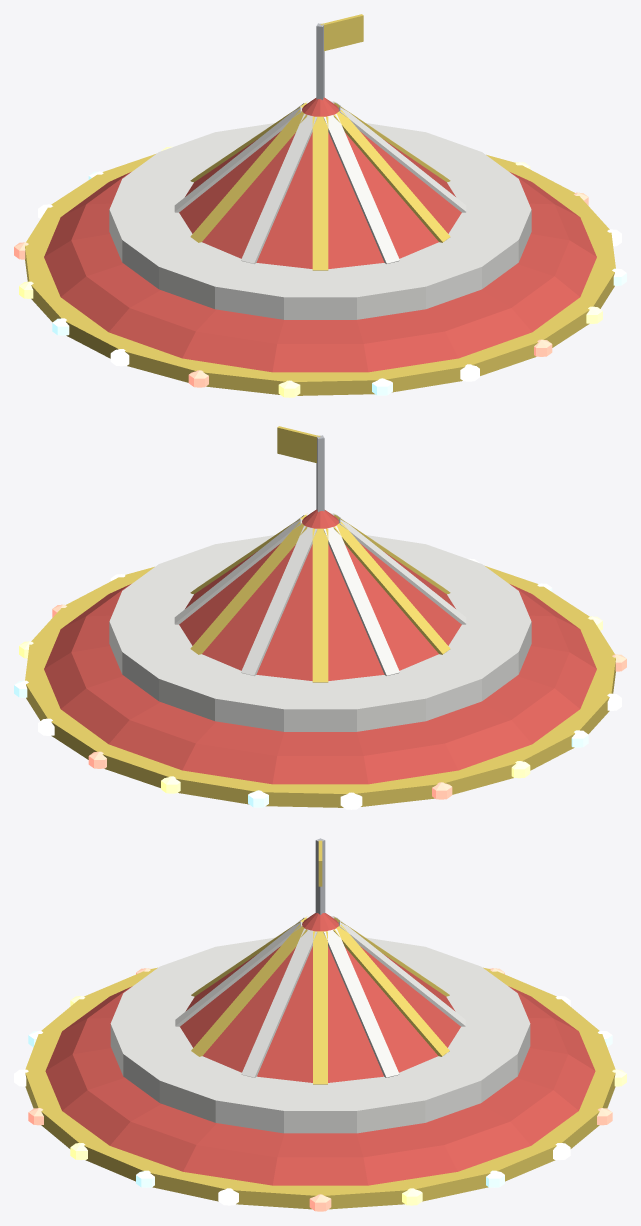
Rendered from market.glb.
3 renders of one model, top to bottom at view 1: azimuth 30°, elevation 25°; view 2: azimuth 150°, elevation 25°; view 3: azimuth 270°, elevation 25°, orthographic.
Parts seen in each view (by area): view 1: market; view 2: market; view 3: market.
Boxes of the visible parts, x1=… form: market: x1=14, y1=14, x2=626, y2=397; market: x1=14, y1=426, x2=626, y2=809; market: x1=14, y1=838, x2=626, y2=1211.
Size of the model in its own units: 6.39 by 3.4 by 6.43.
